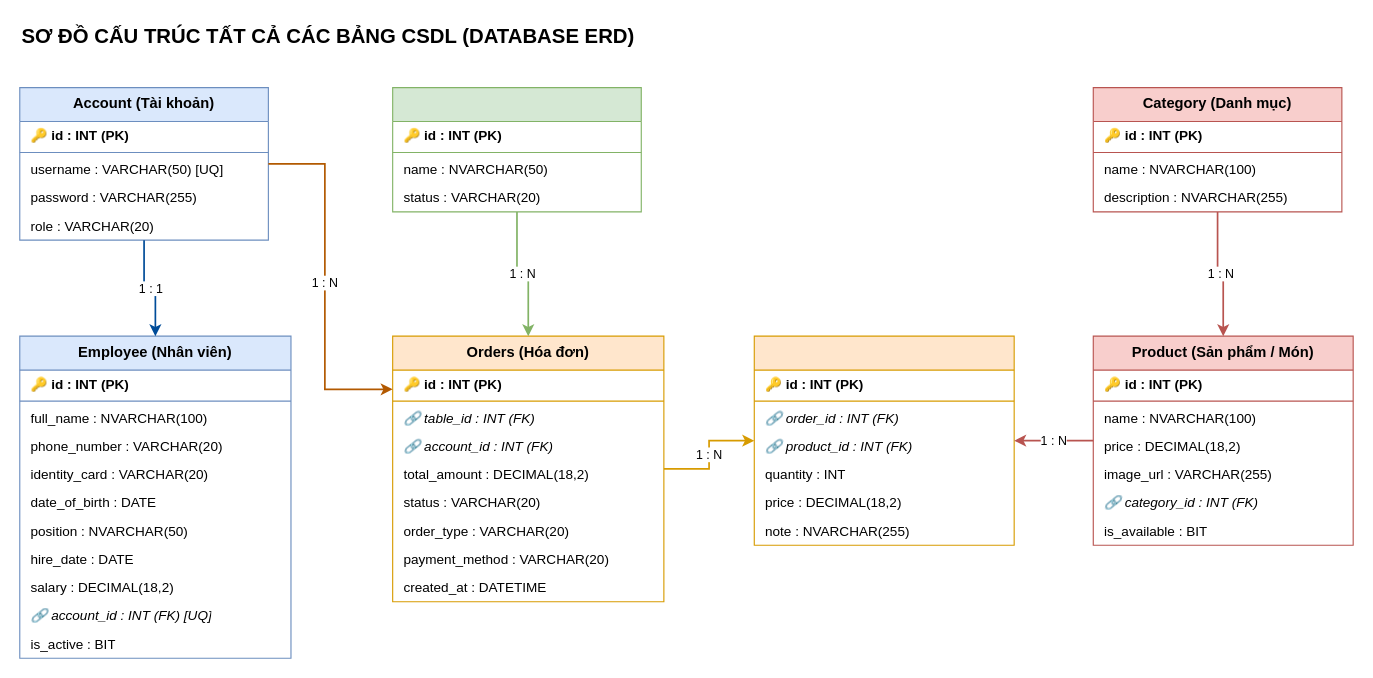
Some shapes in this 1373 by 678 pixel diagram are drawn without their labels. The shapes that lost their labels are listed below. From the top down, each one's box as (x1, y1, x2, y2) in pixels, then its label:
(392, 86, 641, 212): CafeTable (Sơ đồ bàn)
(753, 335, 1014, 545): OrderDetail (Chi tiết hóa đơn)
